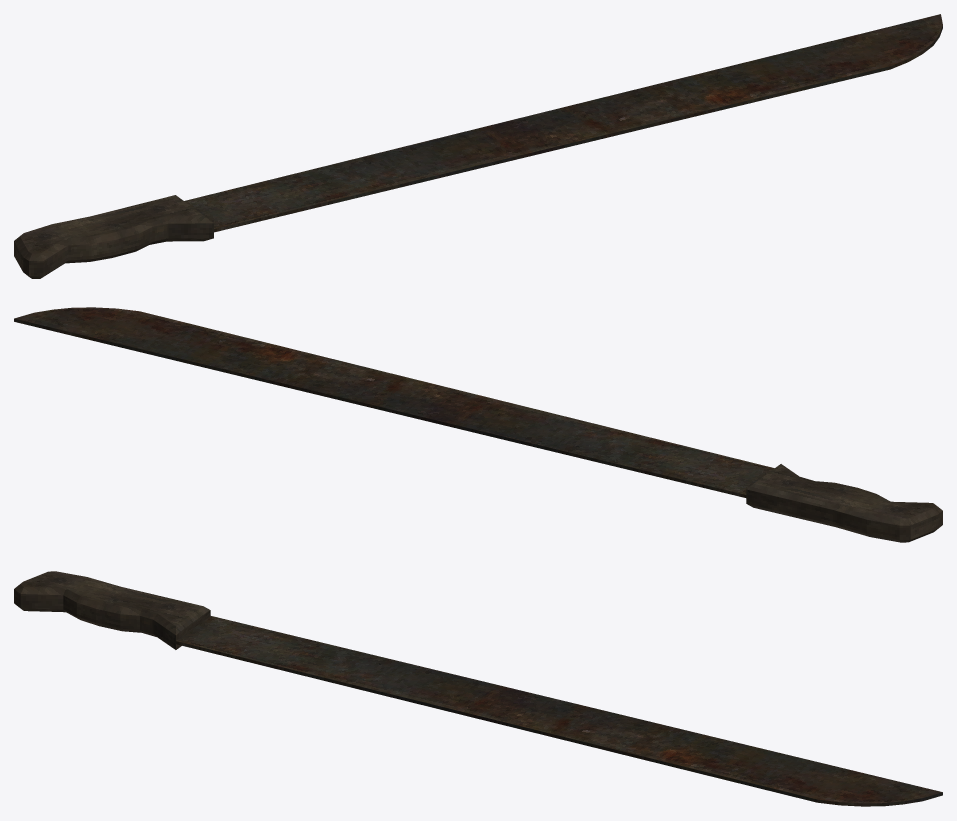
Rendered from machete_mx_1.glb.
3 views of the same model, one above another, from view 1: azimuth 30°, elevation 25°; view 2: azimuth 150°, elevation 25°; view 3: azimuth 330°, elevation 25° (orthographic). The views are drawn at different scales.
Visible parts, largest first — view 1: machete_mx_1; view 2: machete_mx_1; view 3: machete_mx_1.
Boxes of the visible parts, x1,y1,x2,y2 form: machete_mx_1: (14, 14, 942, 278); machete_mx_1: (14, 307, 942, 542); machete_mx_1: (14, 571, 942, 806).
Bounding box in the file's own units: 1.18 × 0.03 × 0.0882.
1 material, 1 textured.
